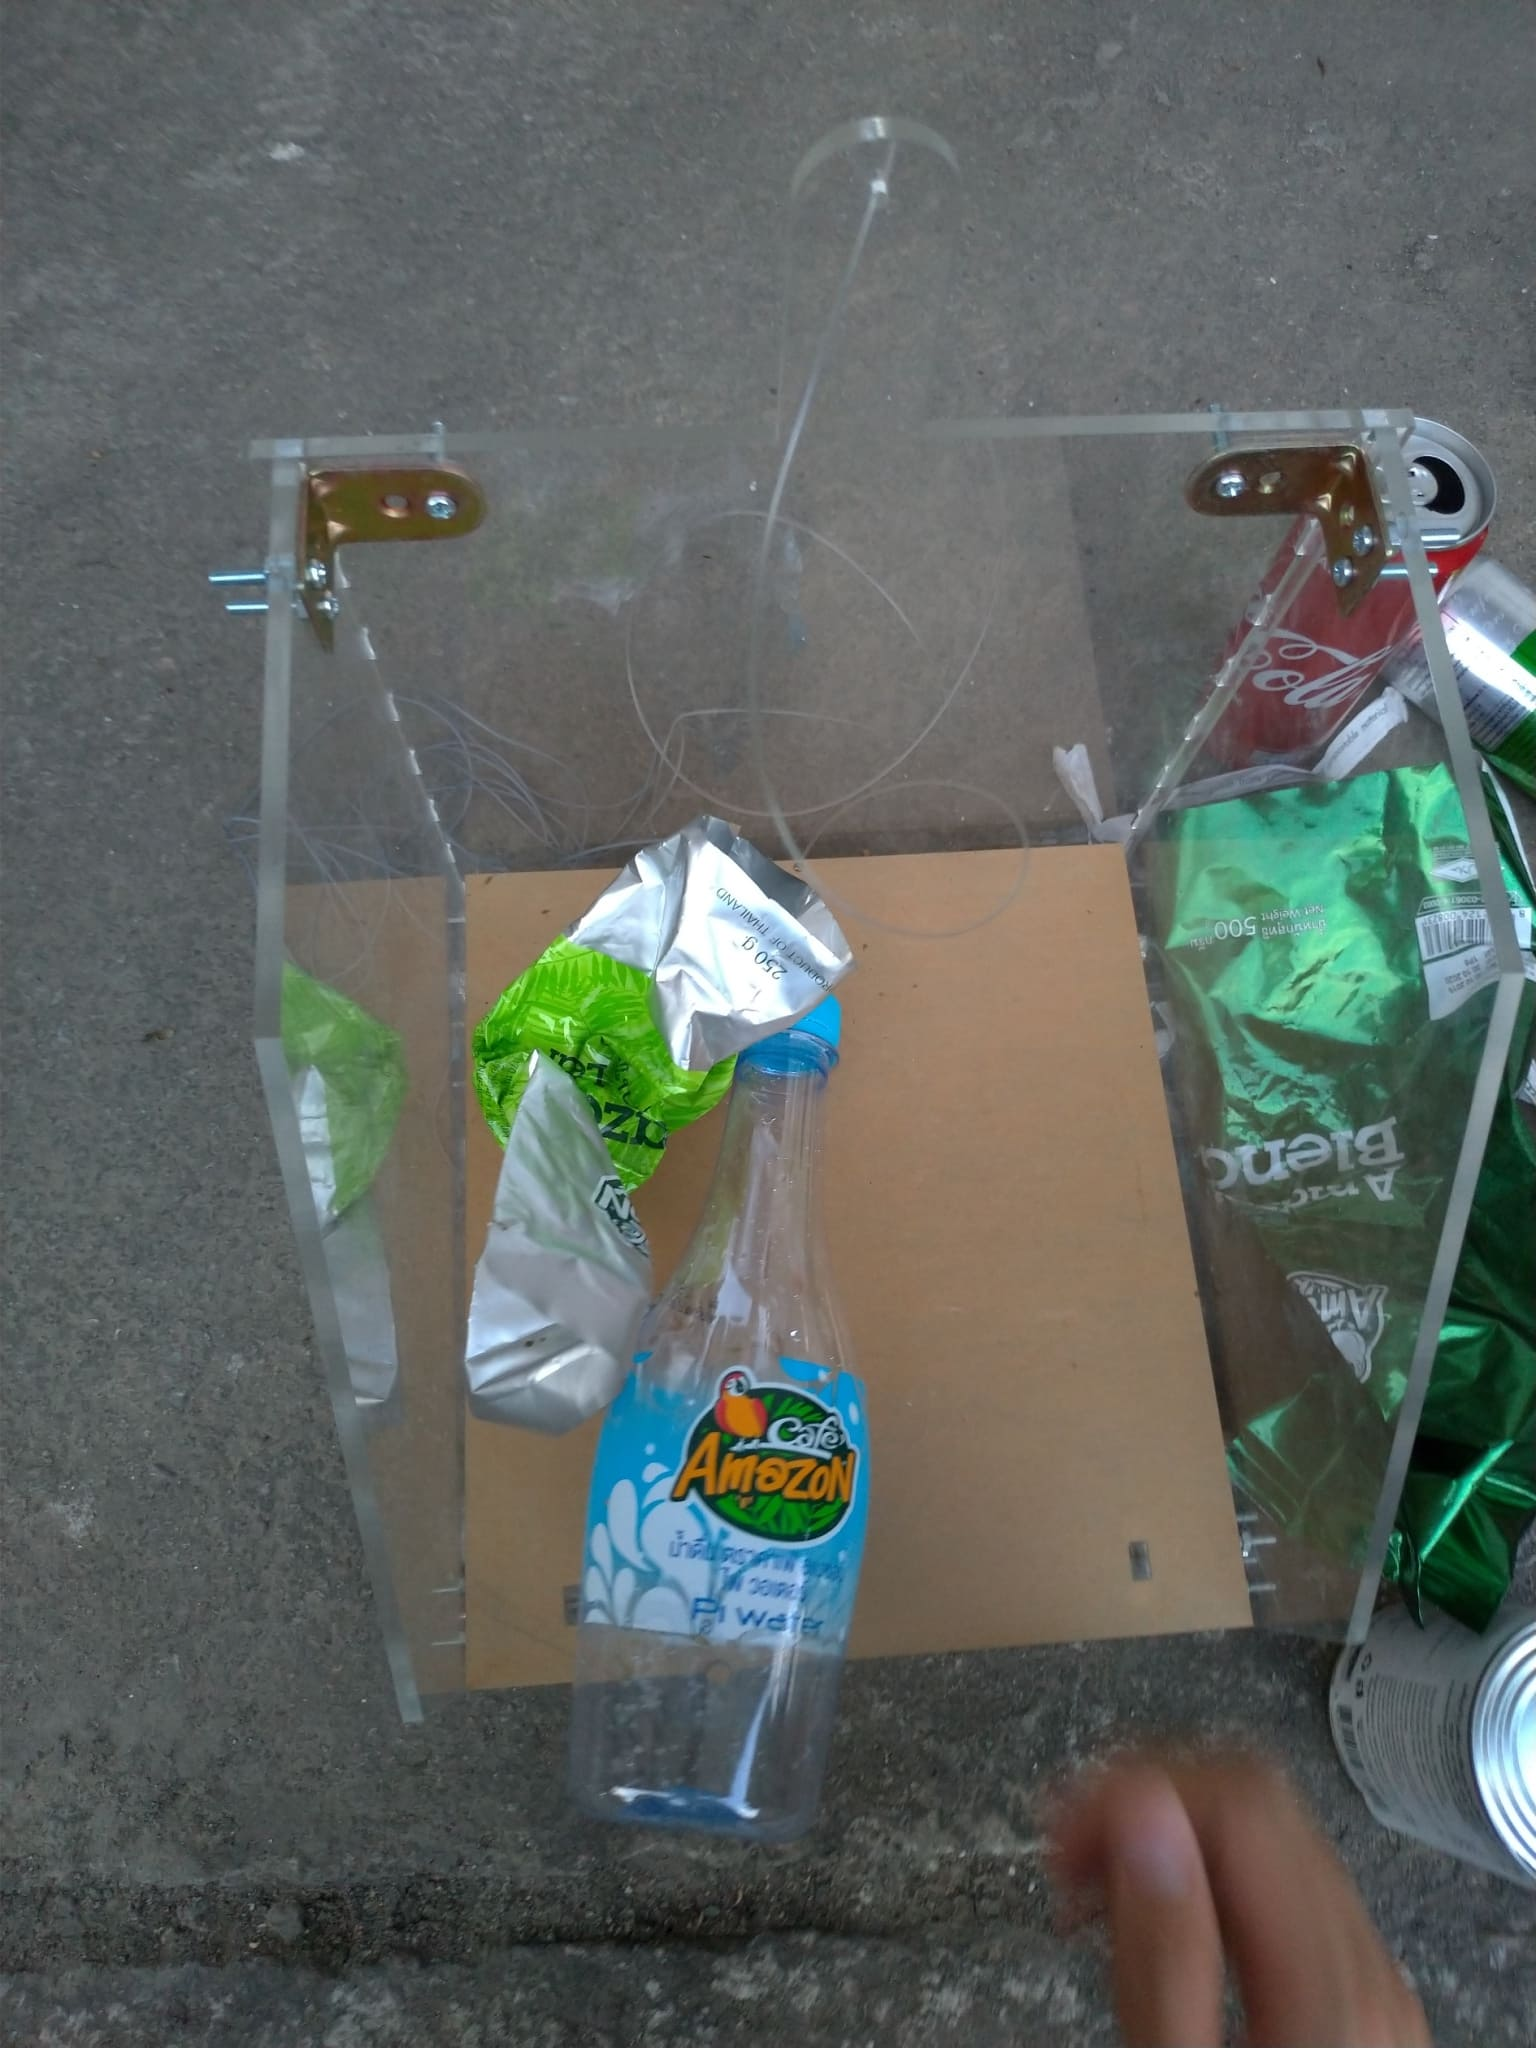AlCan: (1205, 416, 1496, 780), (1409, 561, 1536, 743)
Others: (1141, 758, 1536, 1584), (470, 816, 844, 1426)
PlasticBottle: (557, 1000, 866, 1842)
